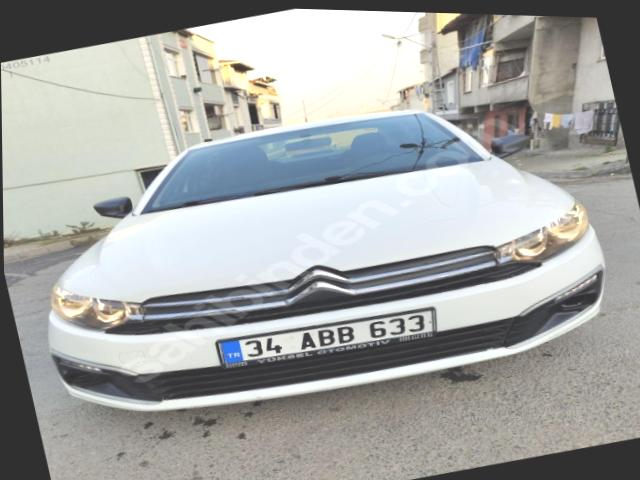plaka: (217, 307, 435, 367)
